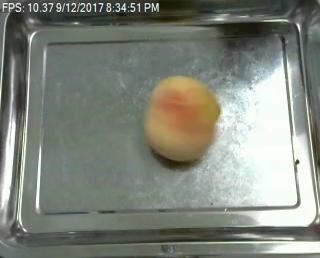Peach: (146, 76, 223, 164)
